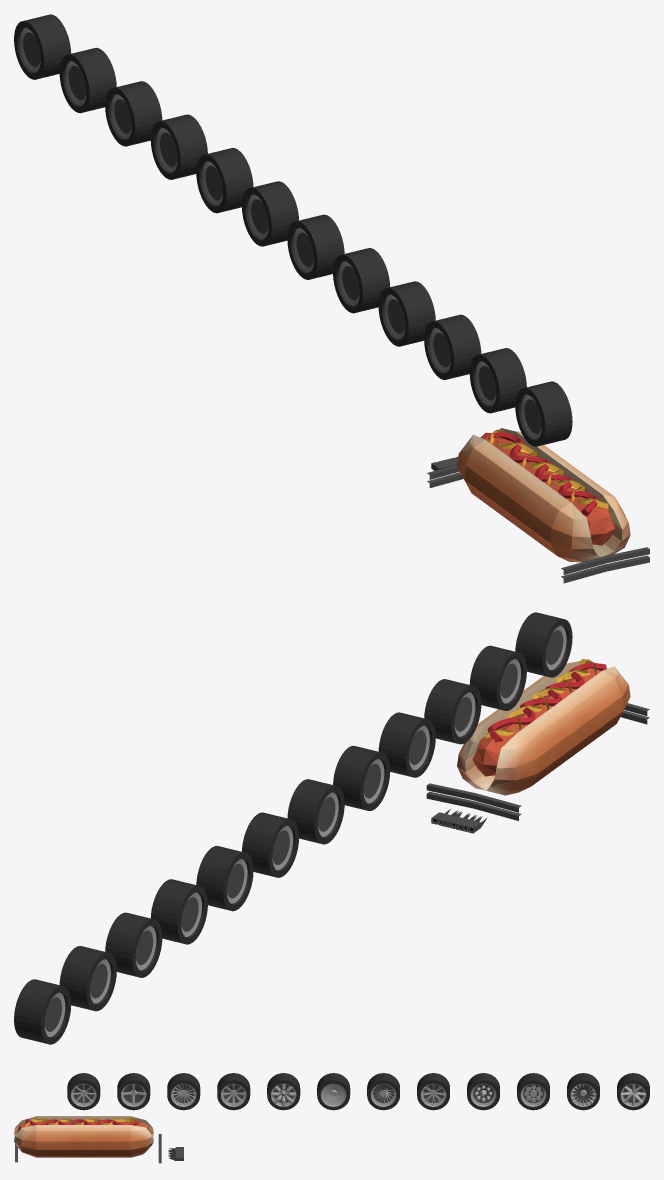
Rendered from car.glb.
3 renders of one model, top to bottom at view 1: azimuth 30°, elevation 25°; view 2: azimuth 150°, elevation 25°; view 3: azimuth 270°, elevation 25°, orthographic. The views are drawn at different scales.
Parts seen in each view (by area): view 1: Body_primitive1, Wheel0_primitive0, Wheel10_primitive0, Wheel5_primitive0, Wheel7_primitive0, Wheel1_primitive0, Wheel2_primitive0, Wheel3_primitive0, Wheel8_primitive0, Wheel4_primitive0, Wheel9_primitive0, Wheel11_primitive0 (+5 smaller); view 2: Body_primitive1, Wheel11_primitive0, Wheel2_primitive0, Wheel7_primitive0, Wheel3_primitive0, Wheel8_primitive0, Wheel9_primitive0, Wheel4_primitive0, Wheel5_primitive0, Wheel0_primitive0, Wheel10_primitive0, Wheel1_primitive0 (+5 smaller); view 3: Body_primitive1, Wheel2_primitive0, Wheel3_primitive0, Wheel0_primitive0, Wheel1_primitive0, Wheel4_primitive0, Wheel5_primitive0, Wheel10_primitive0, Wheel8_primitive0, Wheel9_primitive0, Wheel11_primitive0, Wheel6_primitive0 (+26 smaller).
Boxes of the visible parts, x1,y1,x2,y2 form: Body_primitive1: [457, 428, 630, 562]; Wheel0_primitive0: [515, 381, 572, 446]; Wheel10_primitive0: [59, 47, 116, 113]; Wheel5_primitive0: [287, 214, 344, 279]; Wheel7_primitive0: [196, 148, 253, 213]; Wheel1_primitive0: [469, 348, 526, 413]; Wheel2_primitive0: [424, 314, 481, 379]; Wheel3_primitive0: [378, 281, 435, 346]; Wheel8_primitive0: [150, 114, 207, 179]; Wheel4_primitive0: [333, 248, 390, 313]; Wheel9_primitive0: [105, 81, 162, 146]; Wheel11_primitive0: [14, 14, 71, 79]; Body_primitive1: [457, 661, 630, 795]; Wheel11_primitive0: [14, 979, 71, 1044]; Wheel2_primitive0: [424, 679, 481, 744]; Wheel7_primitive0: [196, 846, 253, 911]; Wheel3_primitive0: [378, 712, 435, 777]; Wheel8_primitive0: [150, 879, 207, 944]; Wheel9_primitive0: [105, 912, 162, 977]; Wheel4_primitive0: [333, 745, 390, 810]; Wheel5_primitive0: [287, 779, 344, 844]; Wheel0_primitive0: [515, 612, 572, 677]; Wheel10_primitive0: [59, 946, 116, 1011]; Wheel1_primitive0: [469, 645, 526, 710]; Body_primitive1: [14, 1116, 153, 1157]; Wheel2_primitive0: [167, 1073, 200, 1110]; Wheel3_primitive0: [217, 1073, 250, 1110]; Wheel0_primitive0: [67, 1073, 100, 1110]; Wheel1_primitive0: [117, 1073, 150, 1110]; Wheel4_primitive0: [267, 1073, 300, 1110]; Wheel5_primitive0: [317, 1073, 350, 1110]; Wheel10_primitive0: [567, 1073, 599, 1110]; Wheel8_primitive0: [467, 1073, 499, 1110]; Wheel9_primitive0: [517, 1073, 549, 1110]; Wheel11_primitive0: [617, 1073, 649, 1110]; Wheel6_primitive0: [367, 1073, 399, 1110].
Size of what is drawn, in the model's own units: 1.17 by 1.74 by 12.73.
8 materials, 1 textured.
